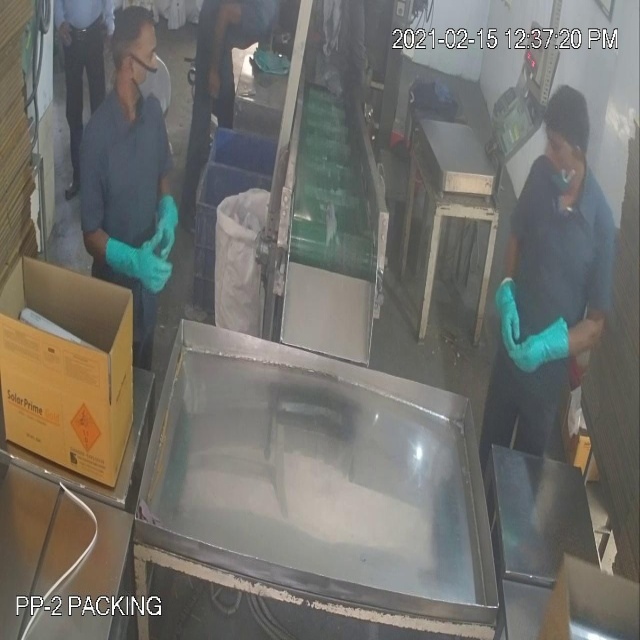Guantes: (99, 225, 187, 312), (510, 316, 572, 385)
Sin_guantes: (206, 1, 242, 111)
